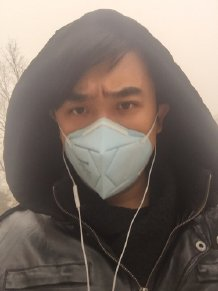face_mask: (54, 61, 154, 199)
